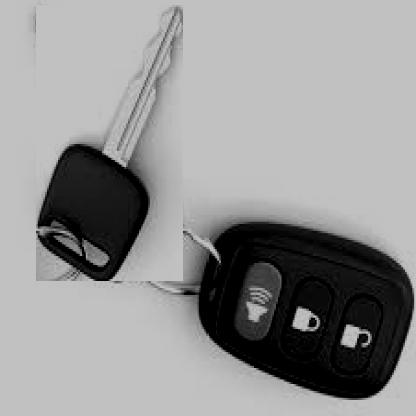key: (37, 5, 183, 281)
